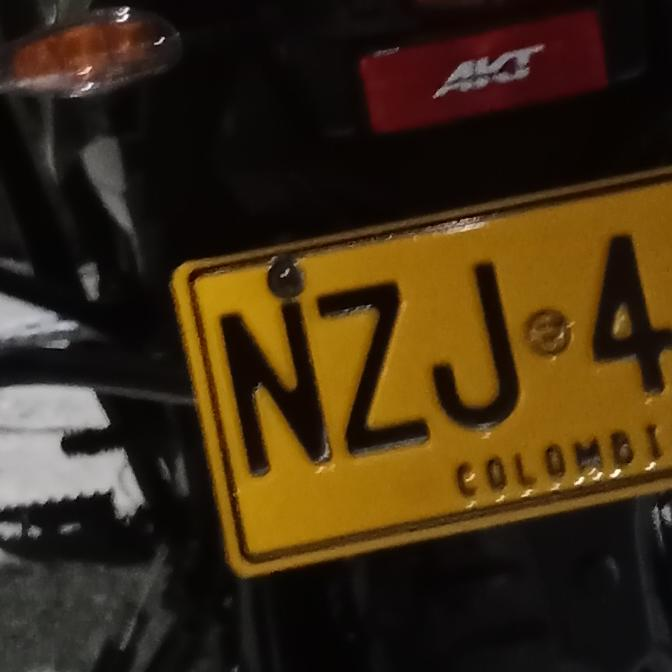plates: (176, 184, 672, 577)
